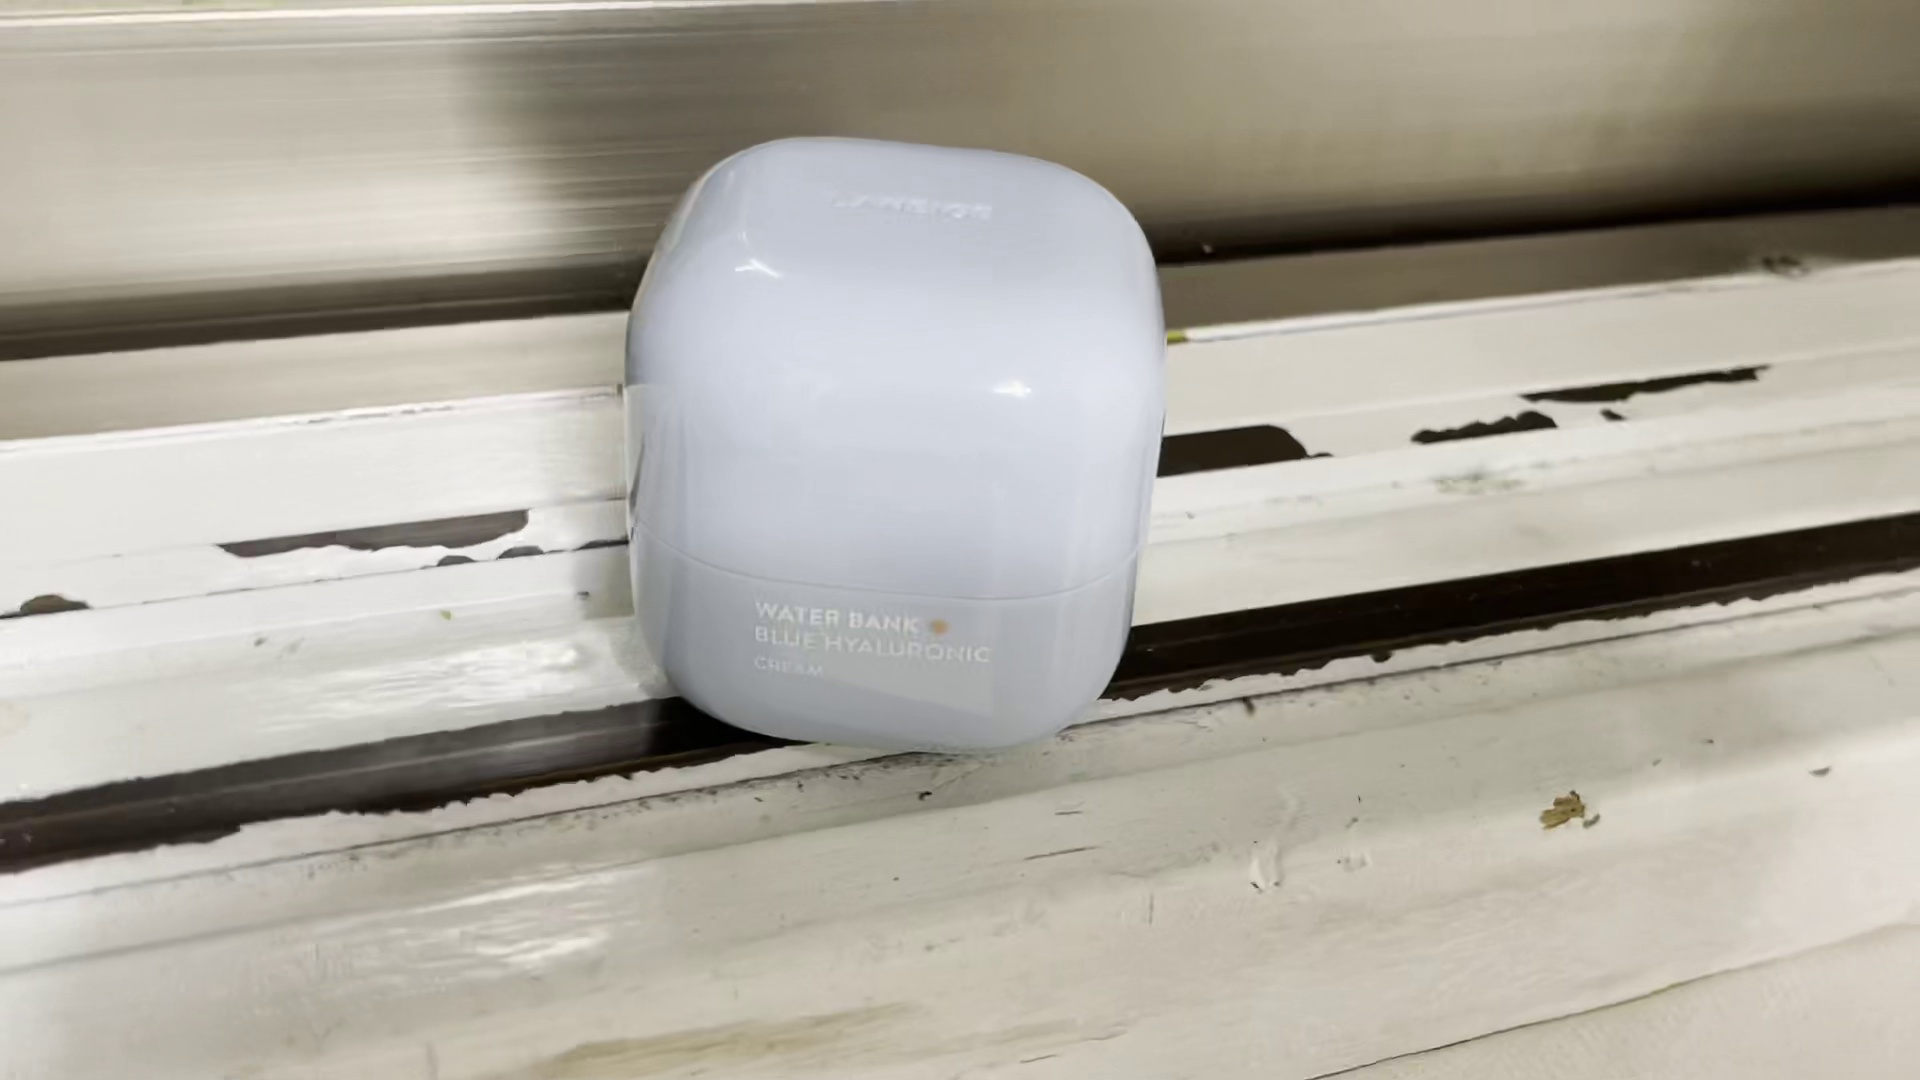cream: (628, 138, 1164, 748)
